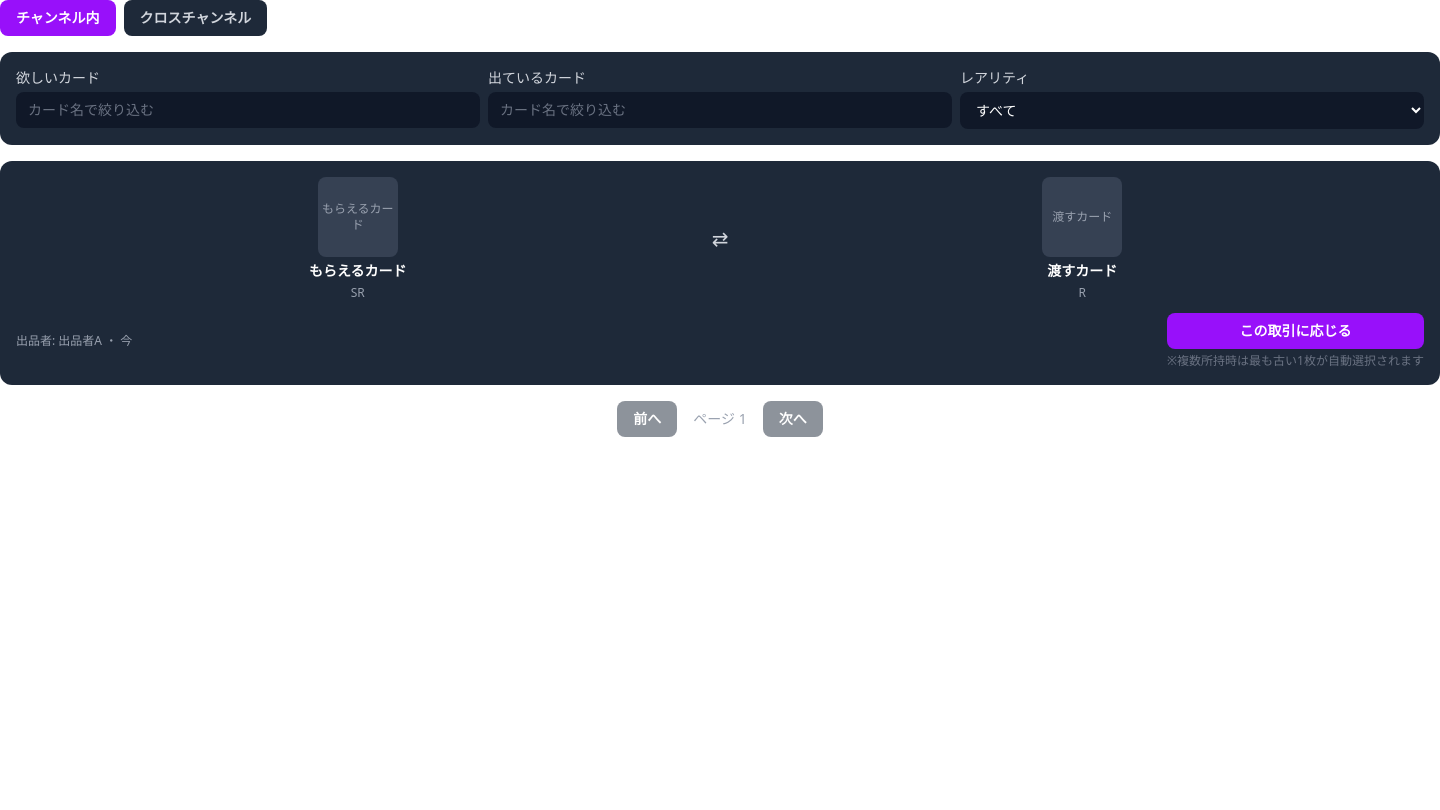
Test case: TradeBoard (#726) › maps a completed/invalid offer to the refetch message
Step 1. Click the button "この取引に応じる" → x=1296, y=331, box [1167,313,1424,349]
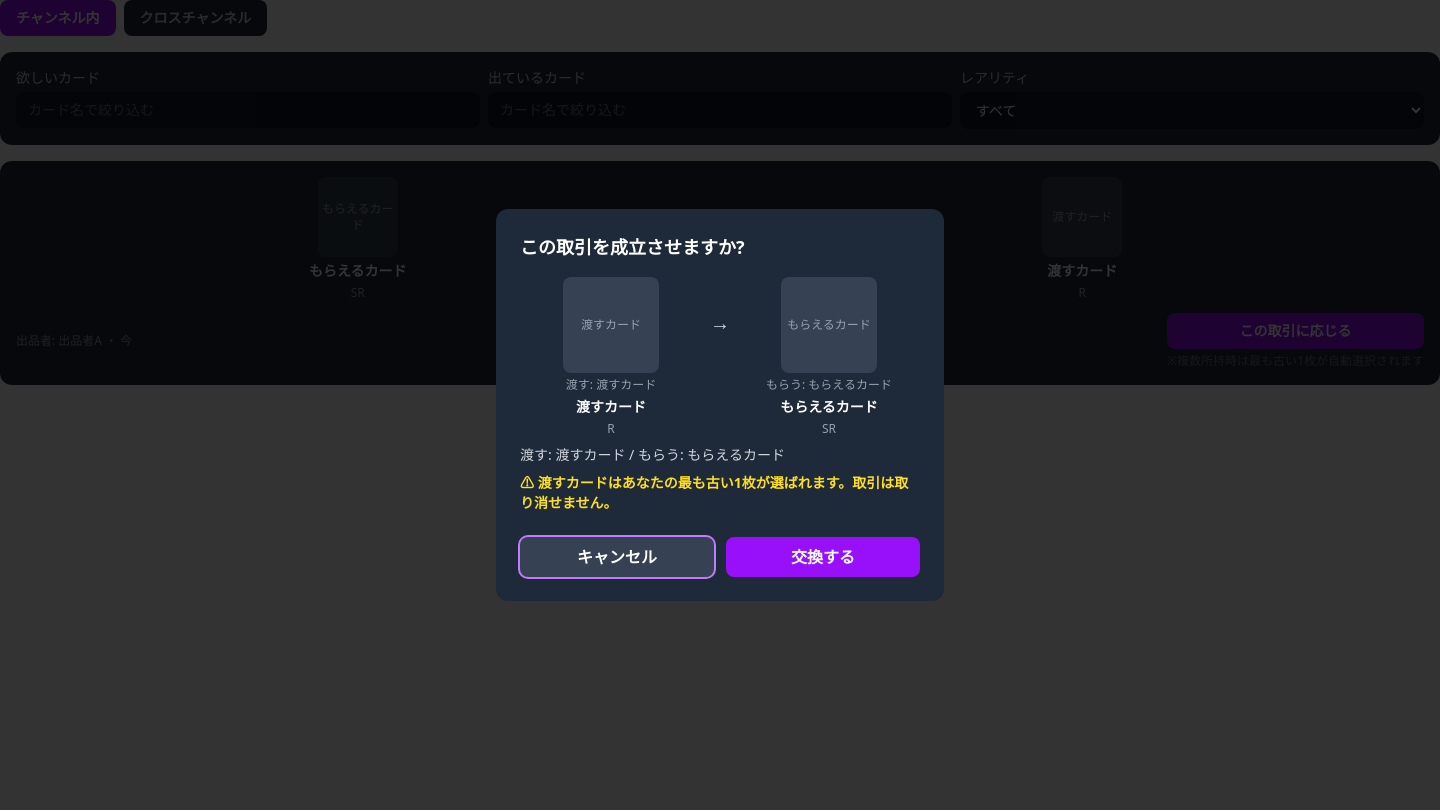
Step 2. Click the button "交換する" → x=823, y=557, box [726,537,920,577]
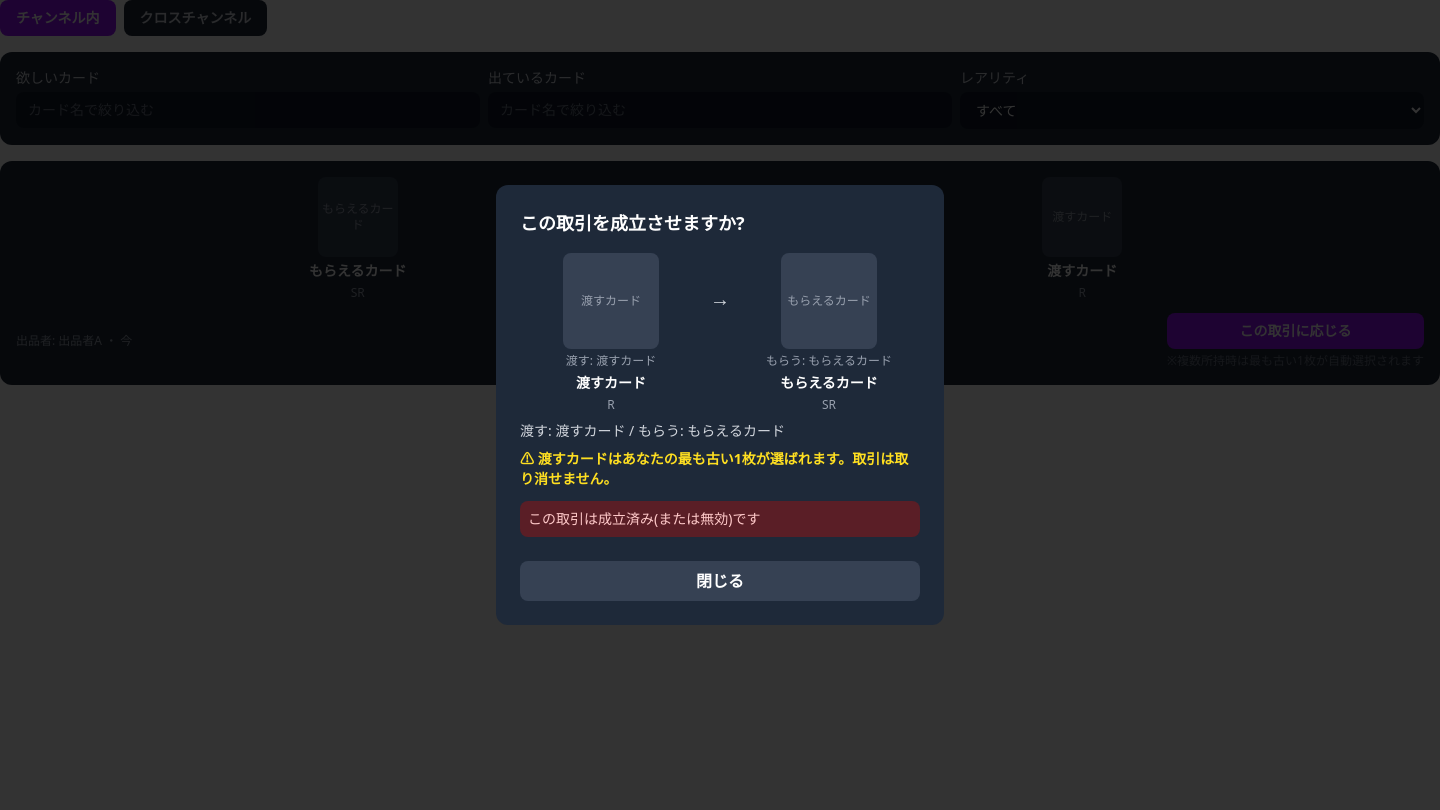
Now the text "この取引は成立済み(または無効)です" is shown, box [520,501,920,537]
